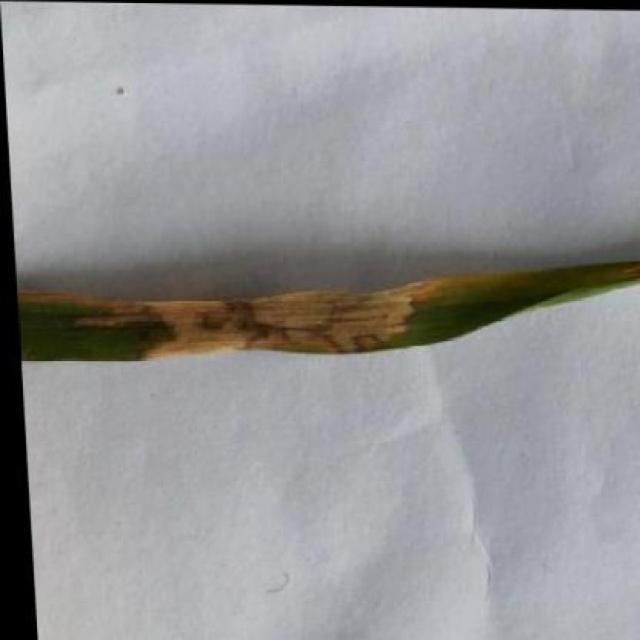Brown_Spot: (11, 238, 640, 374)
